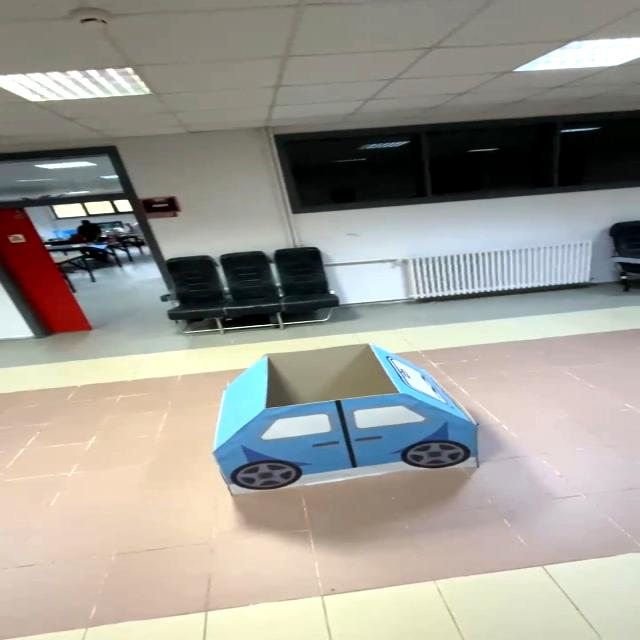blue_car: (176, 339, 519, 500)
